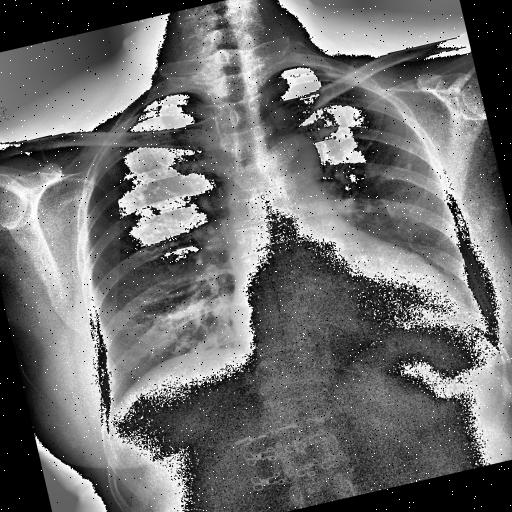0- Aortic enlargement: (248, 126, 327, 202), (246, 127, 328, 200), (261, 126, 326, 200)
3- Cardiomegaly: (220, 237, 467, 368), (227, 258, 467, 380), (226, 263, 471, 377)
